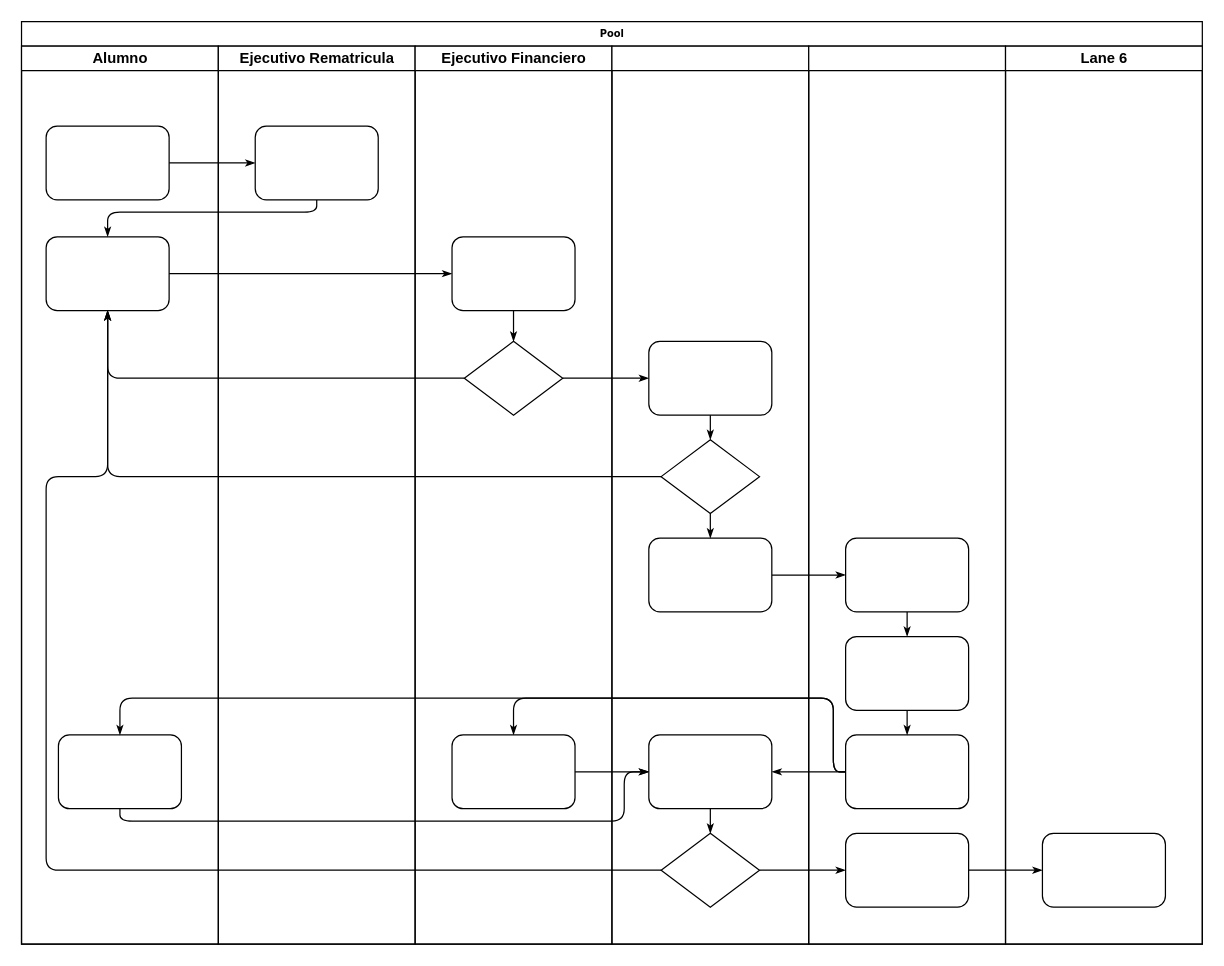
Image size: 1224x966. Some labels were removed from this diagram. The shapes that lost their labels are listed below. From the top down, each one's box as (x1, y1, x2, y2) in pixels, then its label:
(611, 45, 809, 944): Lane 4
(807, 45, 1006, 944): Lane 5
